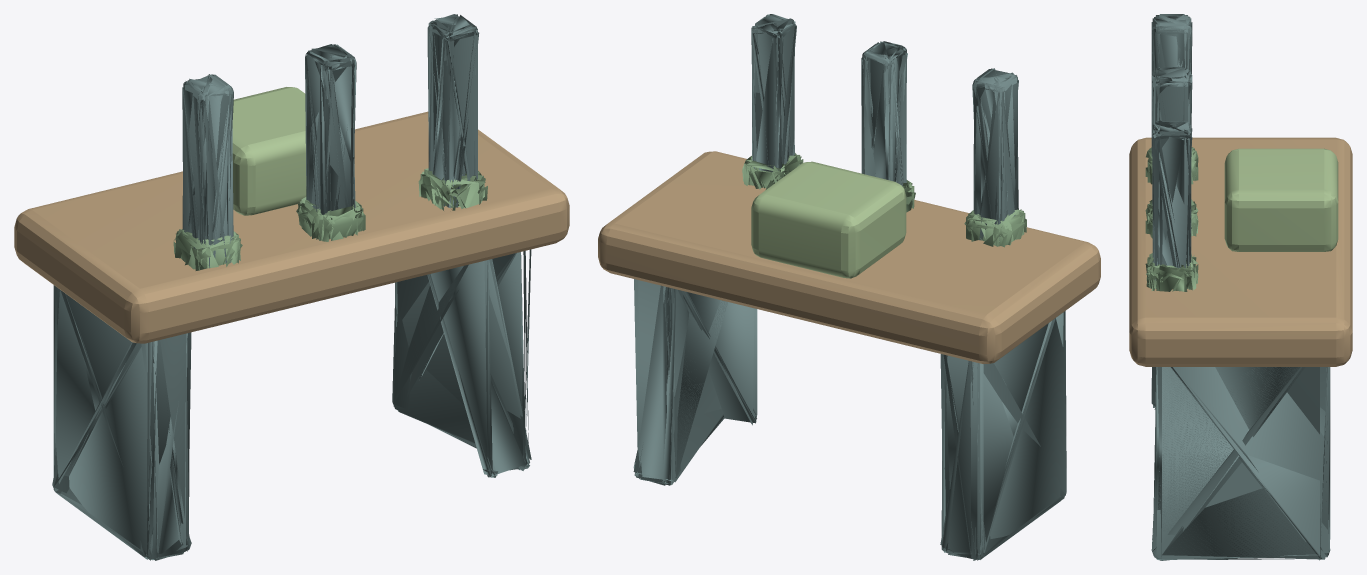
The model's file is equipment.glb.
3 renders of one model, left to right at view 1: azimuth 30°, elevation 25°; view 2: azimuth 150°, elevation 25°; view 3: azimuth 270°, elevation 25°, orthographic. The views are drawn at different scales.
Parts seen in each view (by area): view 1: BenchTop, BenchFoot, BenchFoot.001, SupplyBox, RifleRack, RifleRack.002, RifleRack.001, Stock.001, Stock.002, Stock; view 2: BenchTop, BenchFoot, BenchFoot.001, SupplyBox, RifleRack, RifleRack.002, RifleRack.001, Stock, Stock.002; view 3: BenchFoot.001, BenchTop, SupplyBox, RifleRack.002, RifleRack, RifleRack.001, Stock.002, Stock.001, Stock.
Boxes of the visible parts, x1,y1,x2,y2 form: BenchTop: (14, 111, 569, 343); BenchFoot: (52, 285, 191, 560); BenchFoot.001: (392, 249, 531, 477); SupplyBox: (232, 87, 306, 215); RifleRack: (182, 74, 233, 268); RifleRack.002: (427, 14, 479, 208); RifleRack.001: (305, 44, 356, 214); Stock.001: (296, 197, 365, 241); Stock.002: (418, 168, 487, 210); Stock: (173, 229, 242, 270); BenchTop: (598, 151, 1100, 363); BenchFoot: (940, 311, 1066, 560); BenchFoot.001: (633, 279, 757, 485); SupplyBox: (751, 161, 906, 278); RifleRack: (972, 68, 1018, 240); RifleRack.002: (751, 14, 796, 172); RifleRack.001: (861, 41, 907, 185); Stock: (964, 208, 1026, 247); Stock.002: (742, 153, 803, 189); BenchFoot.001: (1151, 367, 1330, 560); BenchTop: (1129, 137, 1352, 366); SupplyBox: (1224, 148, 1338, 251); RifleRack.002: (1151, 120, 1192, 280); RifleRack: (1151, 14, 1192, 156); RifleRack.001: (1151, 67, 1192, 205); Stock.002: (1145, 253, 1198, 291); Stock.001: (1145, 199, 1198, 238); Stock: (1145, 147, 1198, 184).
Bounding box in the file's own units: 1.12 × 1.11 × 0.55.
